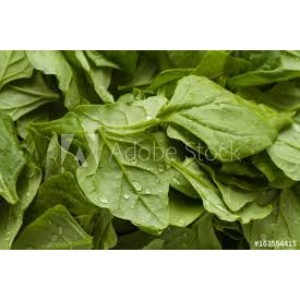spinach_brain food: (16, 90, 287, 232)
